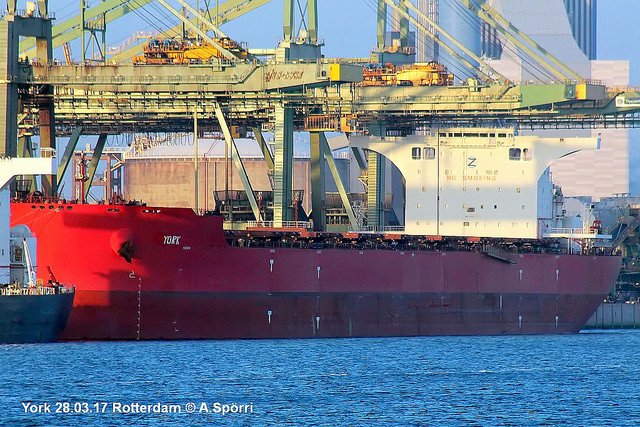bulk carrier: (14, 121, 624, 337)
